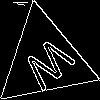W: (19, 34, 83, 100)
